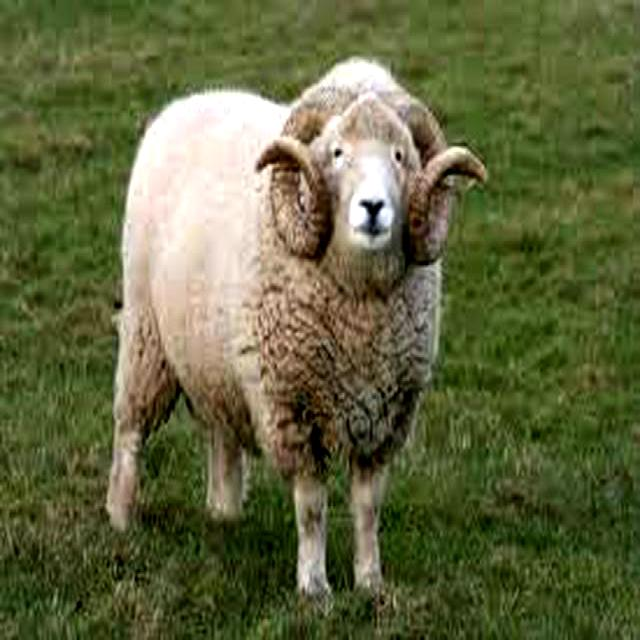sheep: (102, 64, 489, 598)
